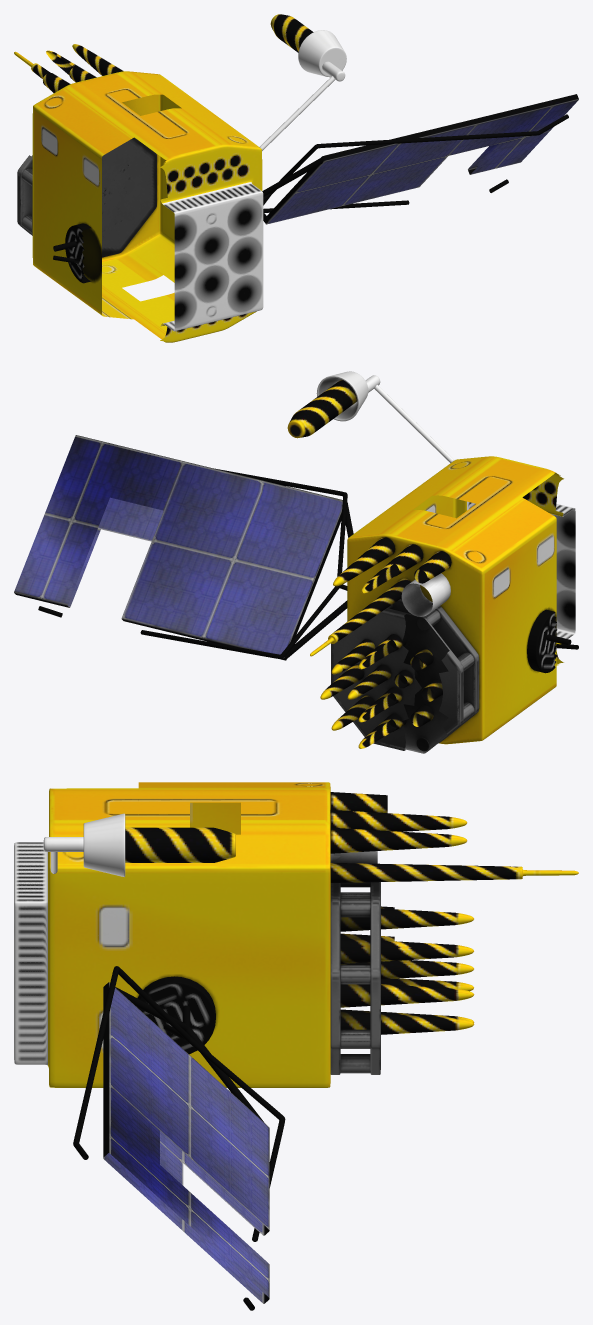
File: satelite1.glb
3 renders of one model, top to bottom at view 1: azimuth 30°, elevation 25°; view 2: azimuth 150°, elevation 25°; view 3: azimuth 270°, elevation 25°, orthographic. The views are drawn at different scales.
Visible parts, largest first — view 1: 10477_Satellite_v1_L3; view 2: 10477_Satellite_v1_L3; view 3: 10477_Satellite_v1_L3.
Part boxes in pixels (x1,y1,x2,y2): 10477_Satellite_v1_L3: [14, 14, 578, 342]; 10477_Satellite_v1_L3: [14, 371, 578, 753]; 10477_Satellite_v1_L3: [14, 782, 578, 1310].
Size of the model in its own units: 1689 by 811 by 1204.
1 material, 1 textured.
